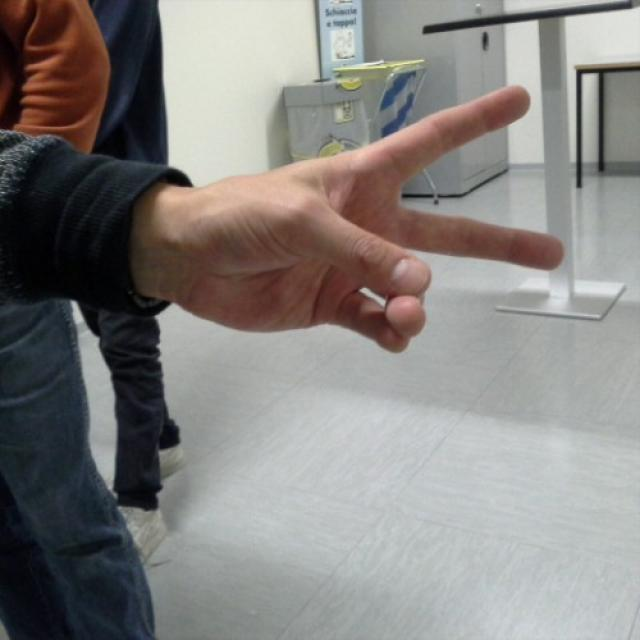scissors: (209, 82, 566, 352)
